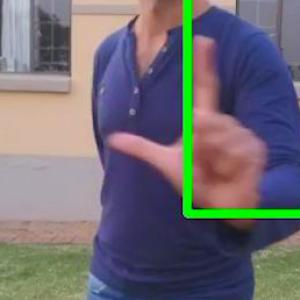land_hand: (101, 28, 269, 214)
